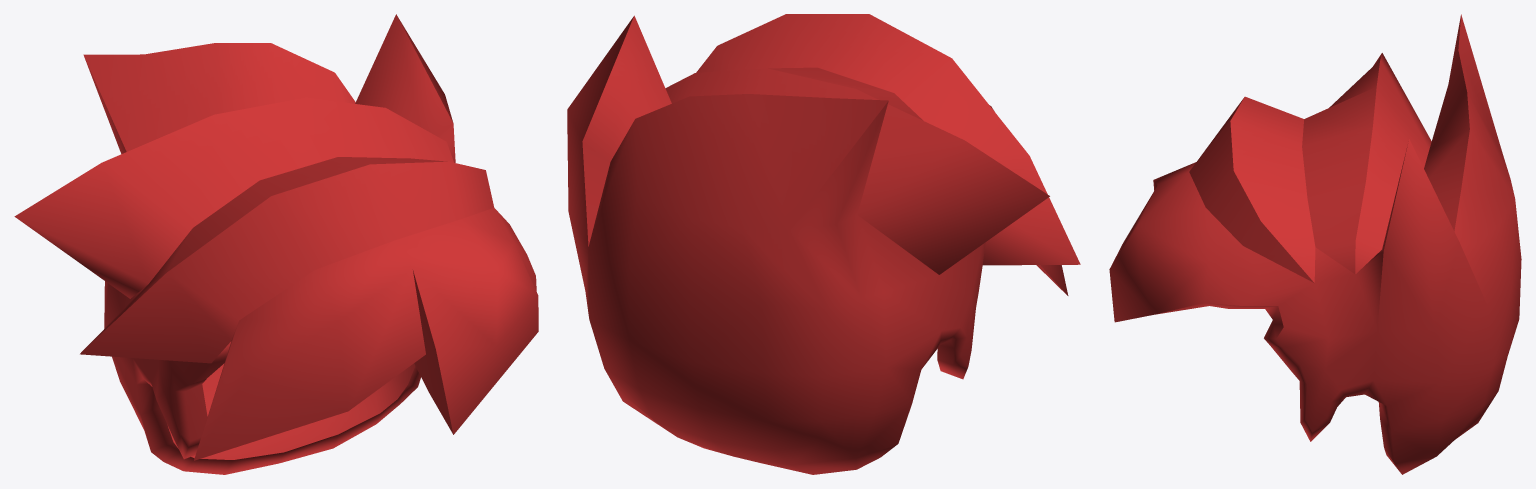
Rendered from Hair_Red_14.fbx.
The picture shows the model from 3 angles, left to right: view 1: azimuth 30°, elevation 25°; view 2: azimuth 150°, elevation 25°; view 3: azimuth 270°, elevation 25°; orthographic projection. The views are drawn at different scales.
Parts seen in each view (by area): view 1: Hair_Red_14; view 2: Hair_Red_14; view 3: Hair_Red_14.
Part boxes in pixels (box(x1,y1,x2,y2)): Hair_Red_14: box(14, 14, 538, 474); Hair_Red_14: box(567, 14, 1080, 474); Hair_Red_14: box(1109, 14, 1521, 474).
Size of the model in its own units: 72.54 by 64.55 by 65.91.
